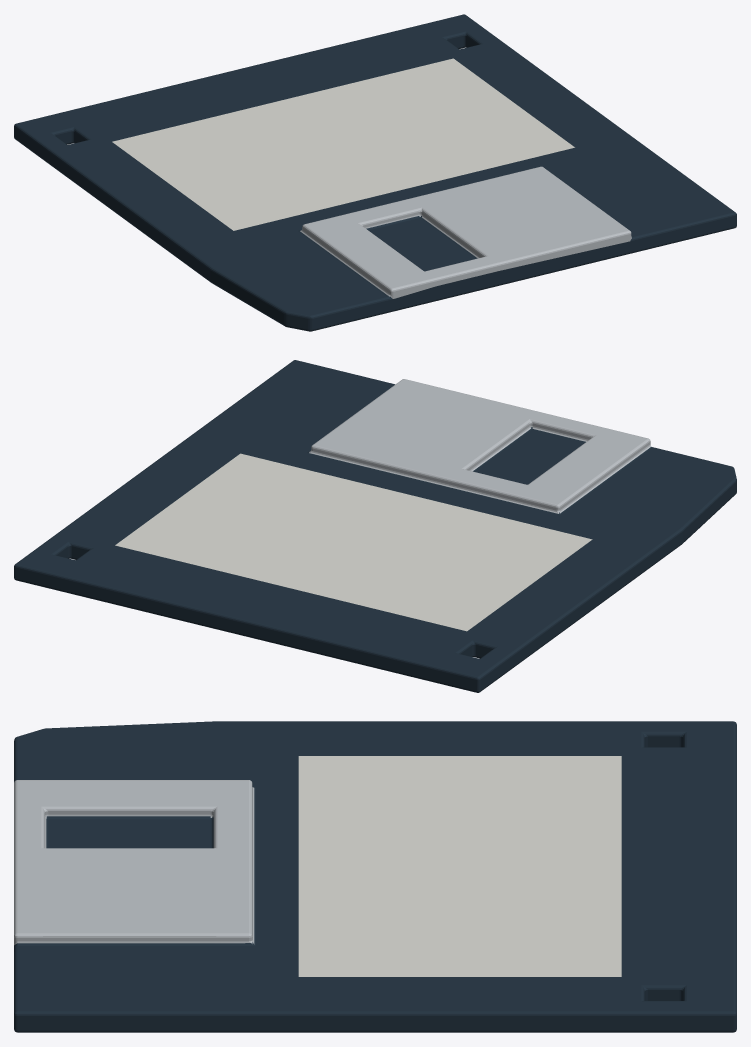
The model's file is A-NEW-20261027-FLOPPY_DISK-001_LOD0_R1.glb.
3 views of the same model, one above another, from view 1: azimuth 30°, elevation 25°; view 2: azimuth 150°, elevation 25°; view 3: azimuth 270°, elevation 25° (orthographic). The views are drawn at different scales.
Parts seen in each view (by area): view 1: original floppy shell shutter and apertures; view 2: original floppy shell shutter and apertures; view 3: original floppy shell shutter and apertures.
Part boxes in pixels (x1,y1,x2,y2): original floppy shell shutter and apertures: (14, 14, 736, 331); original floppy shell shutter and apertures: (14, 360, 736, 692); original floppy shell shutter and apertures: (14, 721, 736, 1032).
Size of the model in its own units: 0.09 by 0.0044 by 0.094.
